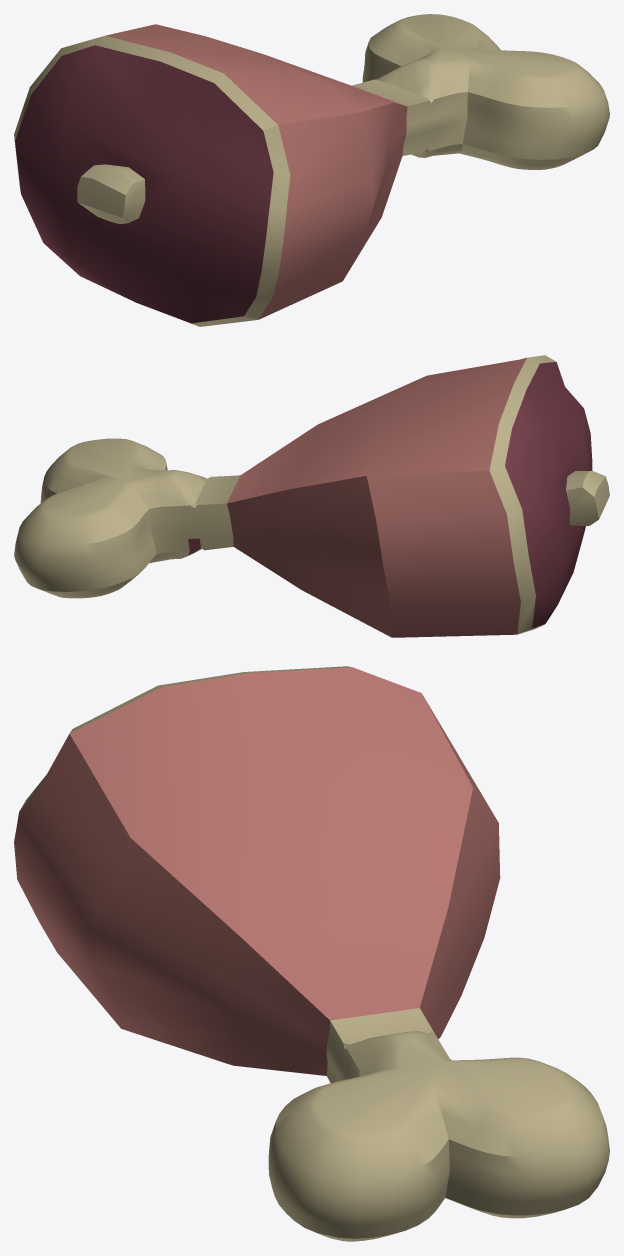
Rendered from Prosciutto.fbx.
3 views of the same model, one above another, from view 1: azimuth 30°, elevation 25°; view 2: azimuth 150°, elevation 25°; view 3: azimuth 270°, elevation 25° (orthographic). The views are drawn at different scales.
Parts seen in each view (by area): view 1: Bone 2.002; view 2: Bone 2.002; view 3: Bone 2.002.
Boxes of the visible parts, box(x1,y1,x2,y2) form: Bone 2.002: box(14, 14, 609, 326); Bone 2.002: box(14, 355, 609, 637); Bone 2.002: box(14, 666, 609, 1241).
Size of the model in its own units: 114 by 46.49 by 82.24.
